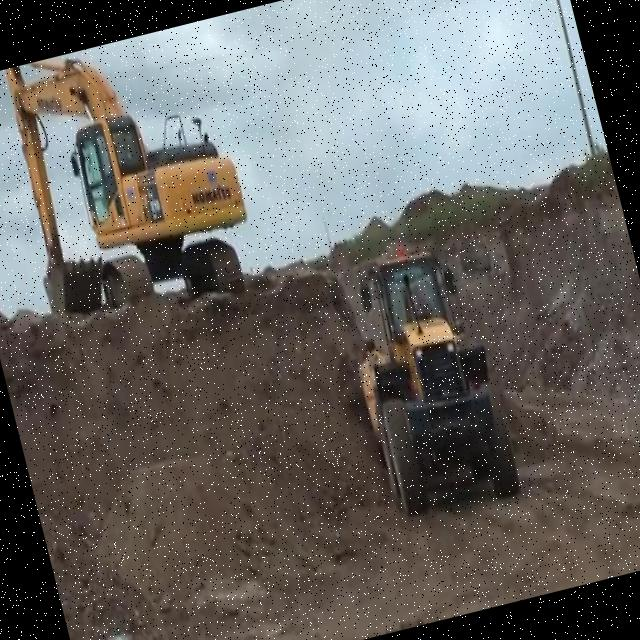Excavator: (0, 21, 265, 342)
Loader: (328, 227, 524, 527)
